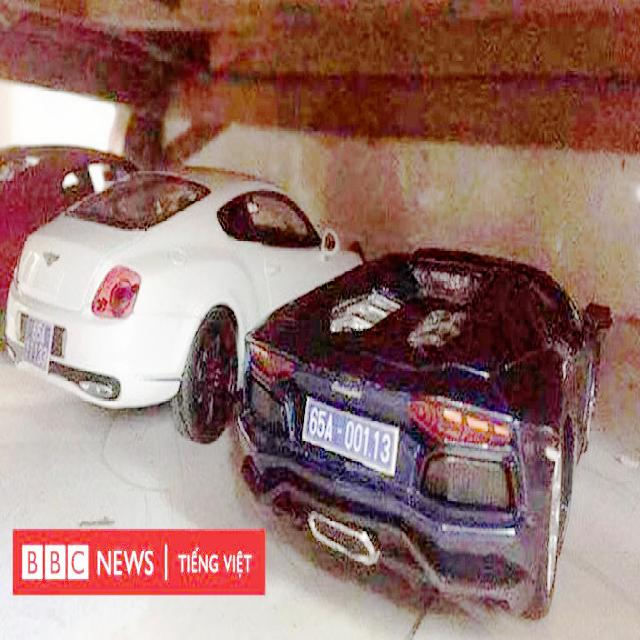license_plate: (303, 400, 398, 473)
